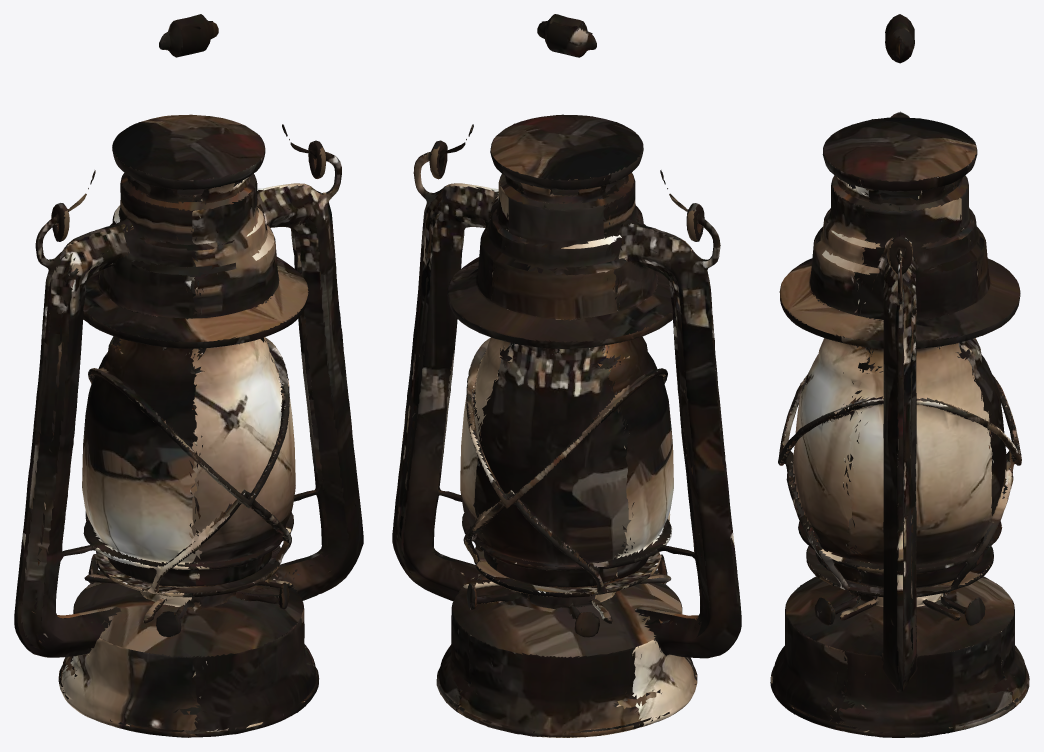
The model's file is lantern.glb.
The picture shows the model from 3 angles, left to right: view 1: azimuth 30°, elevation 25°; view 2: azimuth 150°, elevation 25°; view 3: azimuth 270°, elevation 25°; orthographic projection.
Visible parts, largest first — view 1: Node #0; view 2: Node #0; view 3: Node #0.
Boxes of the visible parts, x1=… form: Node #0: x1=14, y1=14, x2=363, y2=737; Node #0: x1=392, y1=14, x2=741, y2=737; Node #0: x1=770, y1=14, x2=1029, y2=737.
Size of the model in its own units: 1.09 by 2 by 0.7066.
1 material, 1 textured.
